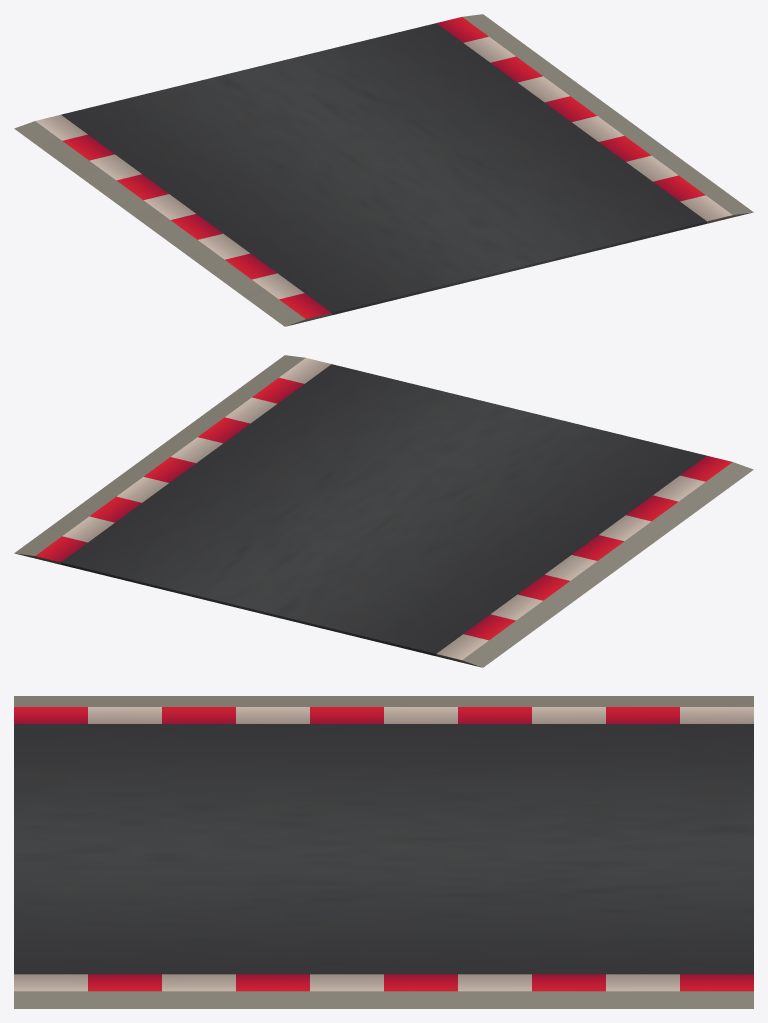
The model's file is Straight_1E.glb.
The picture shows the model from 3 angles, top to bottom: view 1: azimuth 30°, elevation 25°; view 2: azimuth 150°, elevation 25°; view 3: azimuth 270°, elevation 25°; orthographic projection. The views are drawn at different scales.
Visible parts, largest first — view 1: Straight_1E; view 2: Straight_1E; view 3: Straight_1E.
Boxes of the visible parts, x1,y1,x2,y2 form: Straight_1E: [14, 14, 753, 326]; Straight_1E: [14, 355, 753, 667]; Straight_1E: [14, 696, 753, 1008].
Bounding box in the file's own units: 20 × 0.1 × 20.
Materials: 1 (1 with a texture image).
